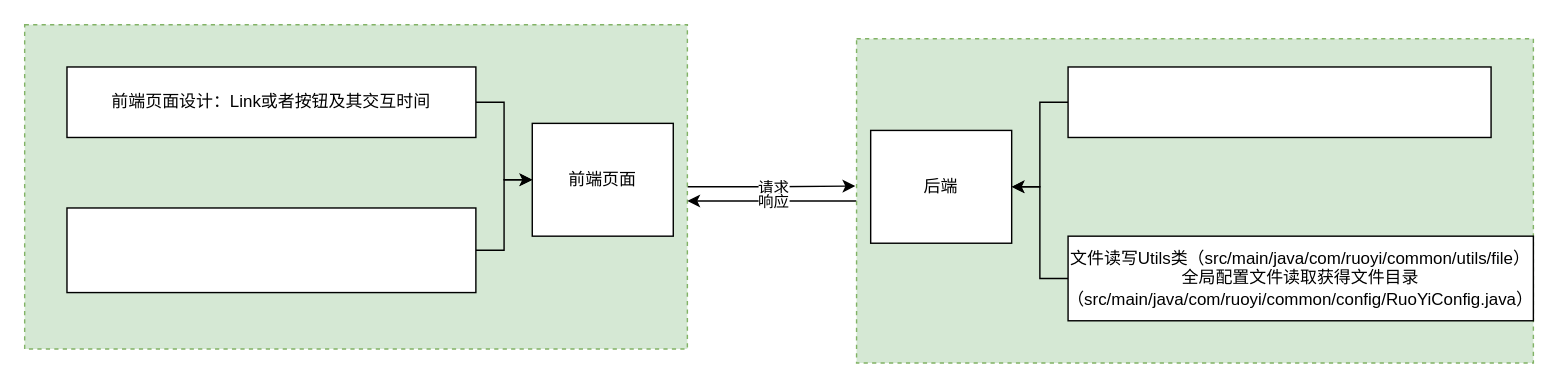
Some shapes in this 1558 by 388 pixel diagram are drawn without their labels. Each missing label, with the centre of its shape:
"前端API设计（\ruoyi-ui\src\api）" goes at (x=271, y=250).
"后端接口（接口参数以及返回值类型设计）" goes at (x=1279, y=101).
